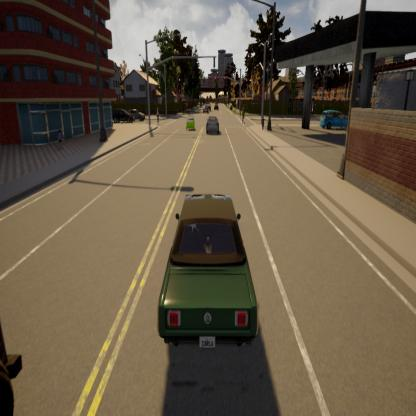Cars: (158, 188, 260, 356), (320, 108, 350, 129), (111, 108, 131, 126), (206, 114, 220, 137), (128, 107, 144, 121), (184, 115, 195, 133)
Pedestrian: (56, 123, 64, 151), (240, 101, 245, 128), (155, 105, 160, 127)
